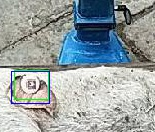text: (14, 70, 48, 99)
